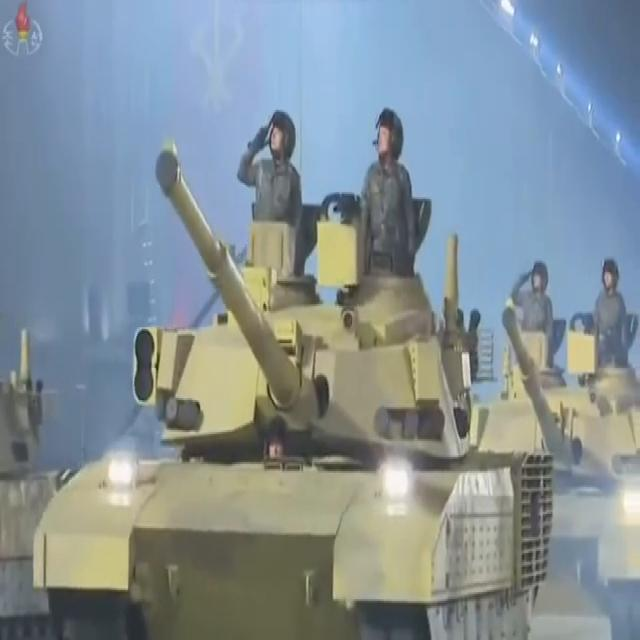north tank: (29, 138, 576, 640), (475, 287, 640, 604)
